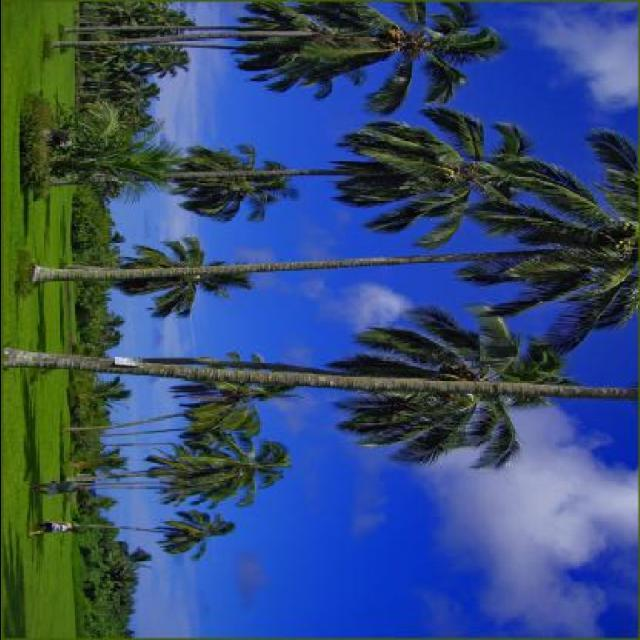Coconut: (439, 362, 473, 400), (611, 221, 640, 259), (376, 24, 404, 46), (438, 167, 456, 190)
